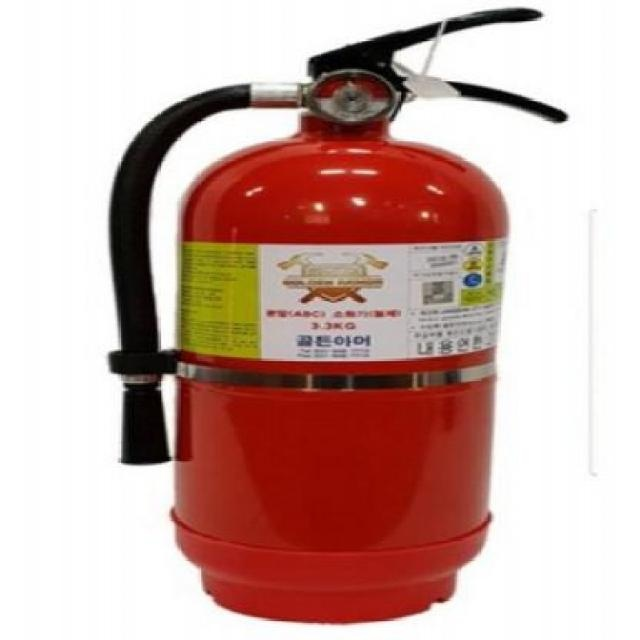fire extinguisher: (107, 7, 570, 625)
